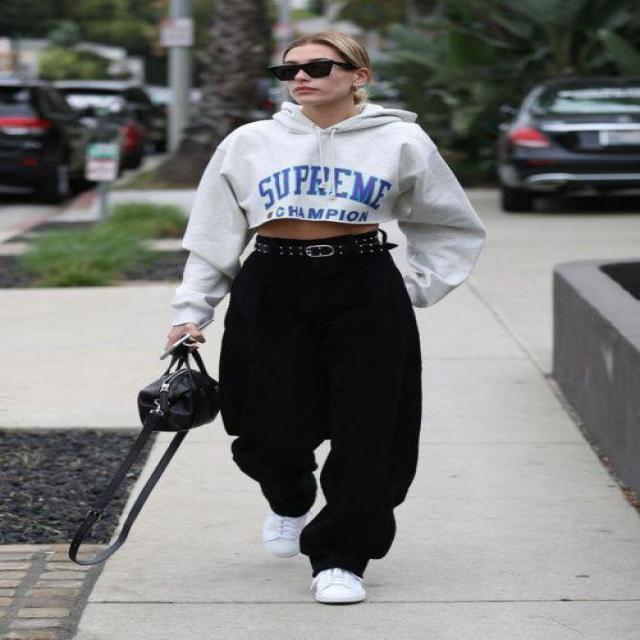sweater: (168, 102, 491, 328)
trousers: (218, 248, 426, 579)
